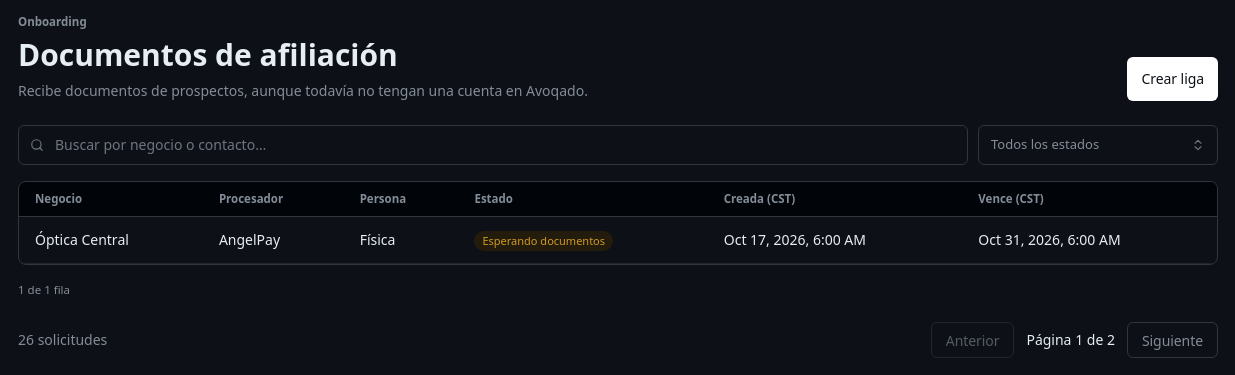
busca y pagina en servidor mostrando el total exacto sin filtrar sólo la página
The width and height of the screenshot is (1235, 375).
Expected: the link "Óptica Central" is shown, [35,230,129,249]
Expected: the text "26 solicitudes" is shown, [18,330,107,350]
Click the button "Siguiente" at (1172, 340), box [1127,322,1218,358]
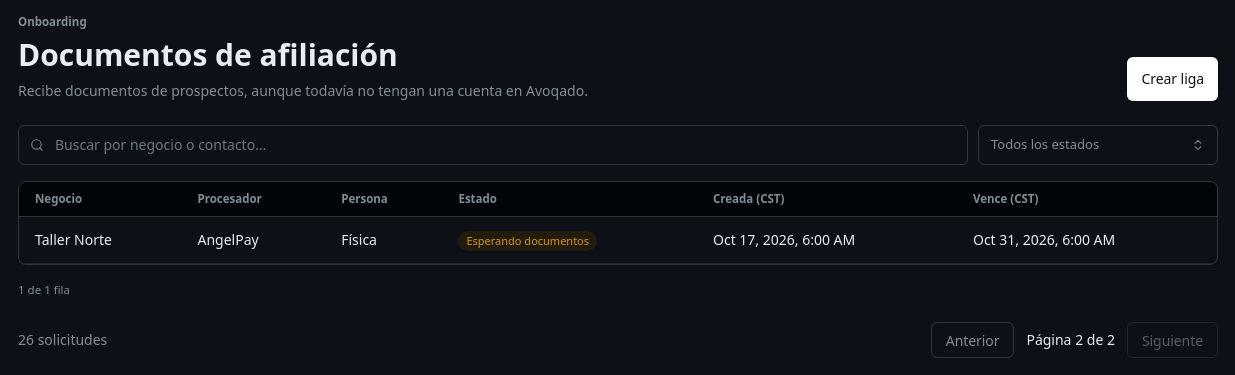
Result: the link "Taller Norte" is shown at [35,230,112,249]
Type "óptica" into the field labelled "Buscar por negocio o contacto…" at (493, 145), box [18,125,968,165]
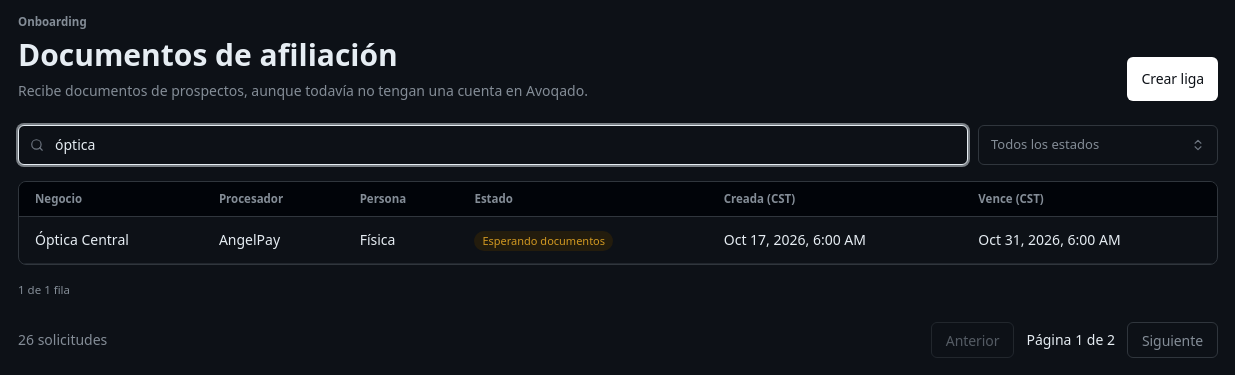
Result: the link "Óptica Central" is shown at [35,230,129,249]
